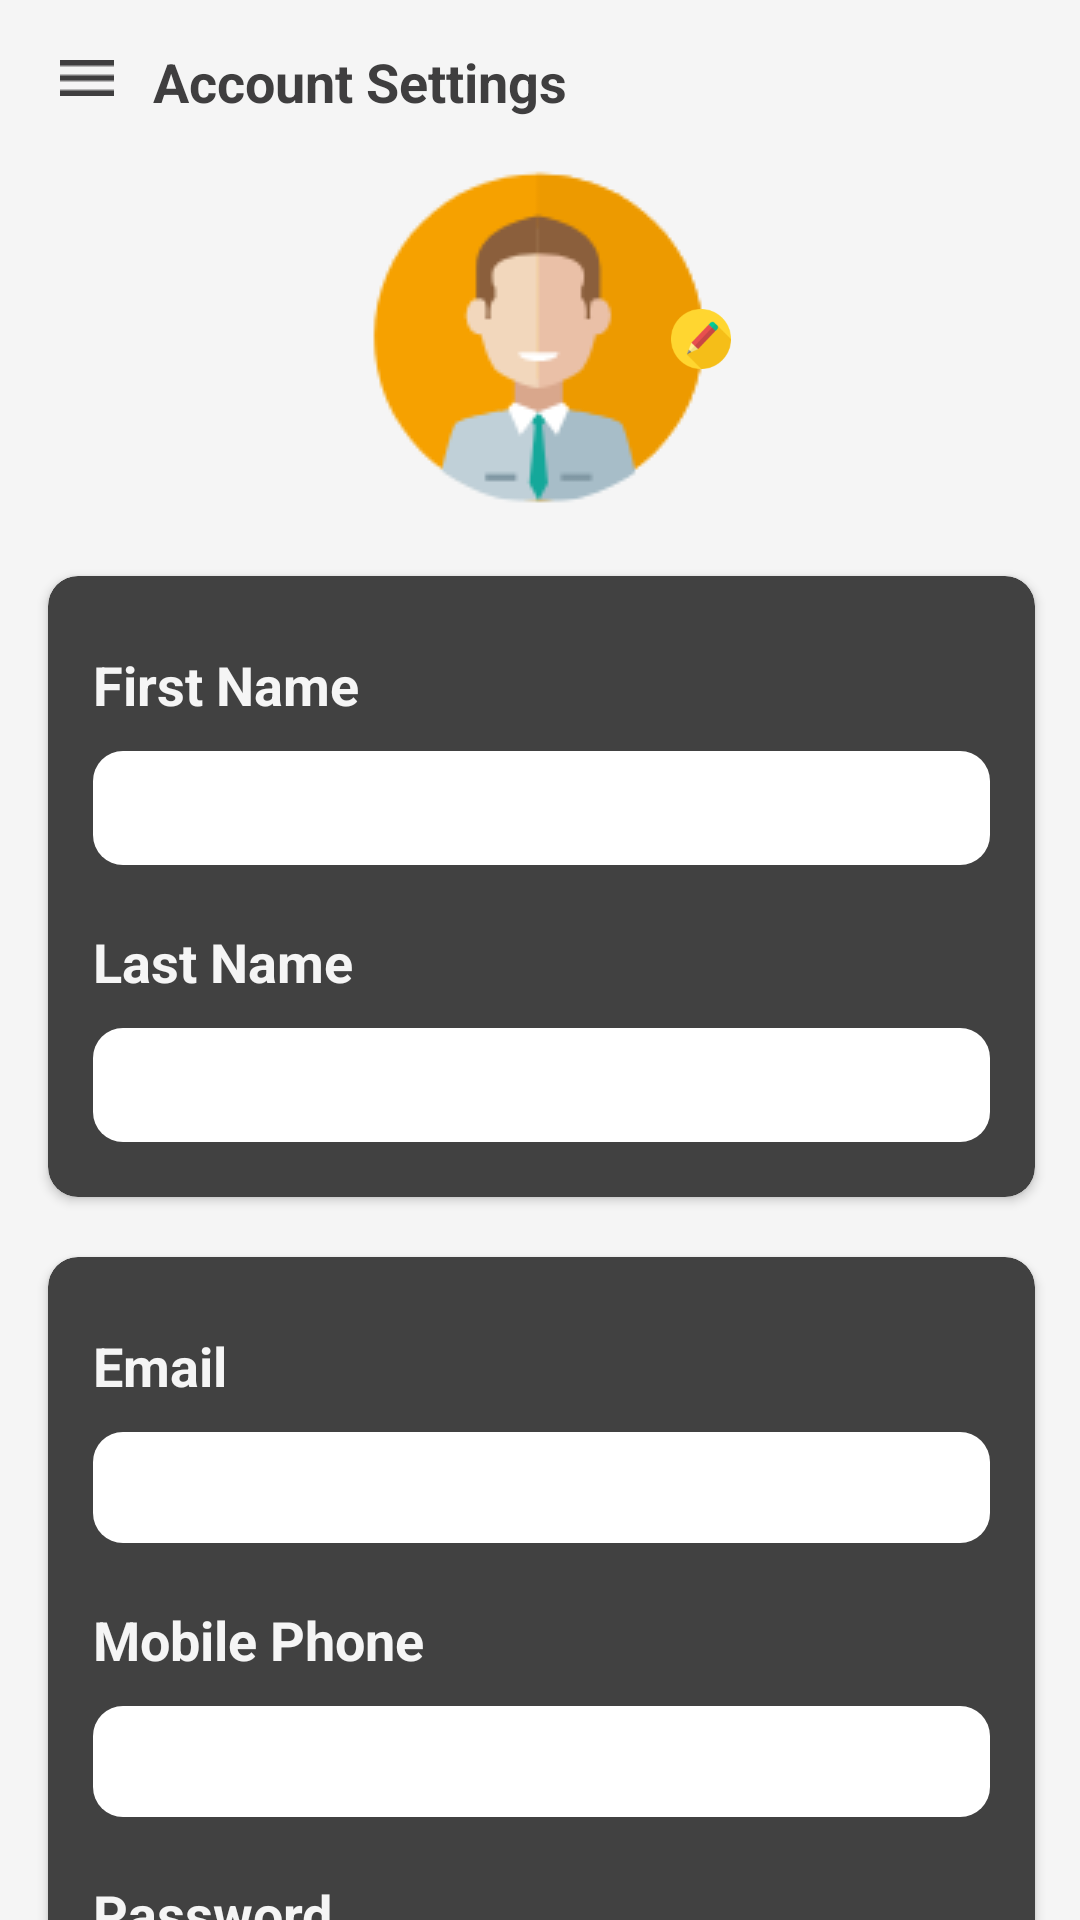

Icons on this 1080*1920 Android screen, each with the point to tap as (x,y):
blacknav: (87,78)
